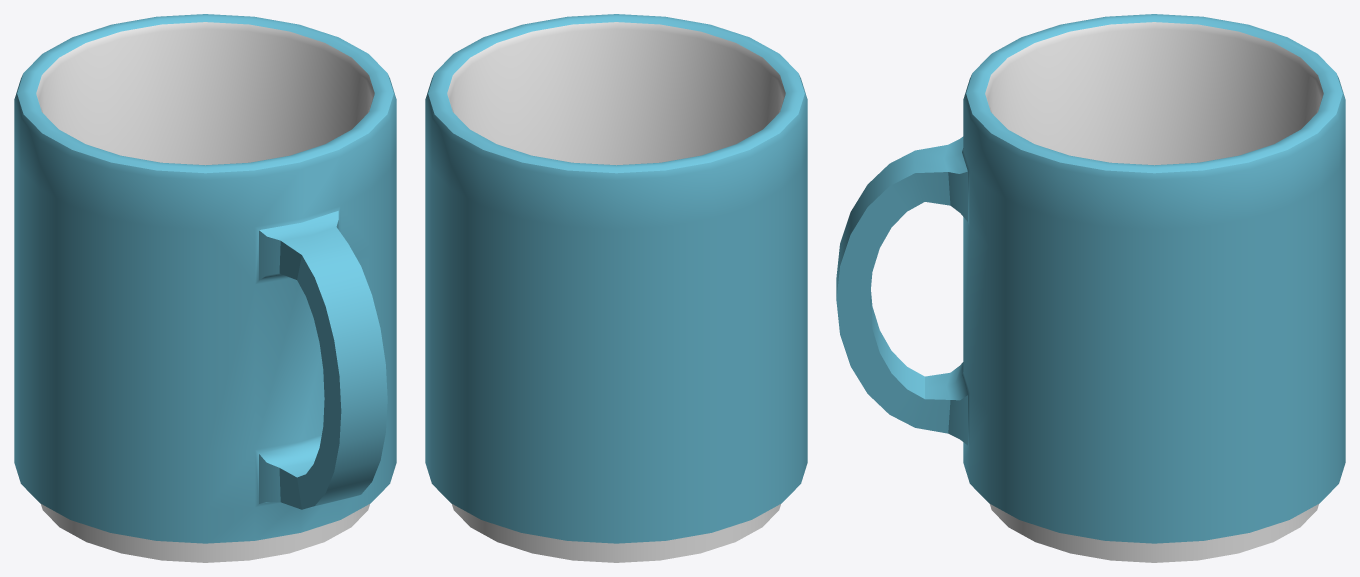
Rendered from Cups_04.glb.
The picture shows the model from 3 angles, left to right: view 1: azimuth 30°, elevation 25°; view 2: azimuth 150°, elevation 25°; view 3: azimuth 270°, elevation 25°; orthographic projection.
Visible parts, largest first — view 1: Mesh_Cups_04; view 2: Mesh_Cups_04; view 3: Mesh_Cups_04.
Part boxes in pixels (bbox=[...]): Mesh_Cups_04: bbox=[14, 14, 396, 562]; Mesh_Cups_04: bbox=[425, 14, 807, 562]; Mesh_Cups_04: bbox=[836, 14, 1345, 562].
Size of the model in its own units: 0.0813 by 0.094 by 0.1083.
Materials: 1 (1 with a texture image).
